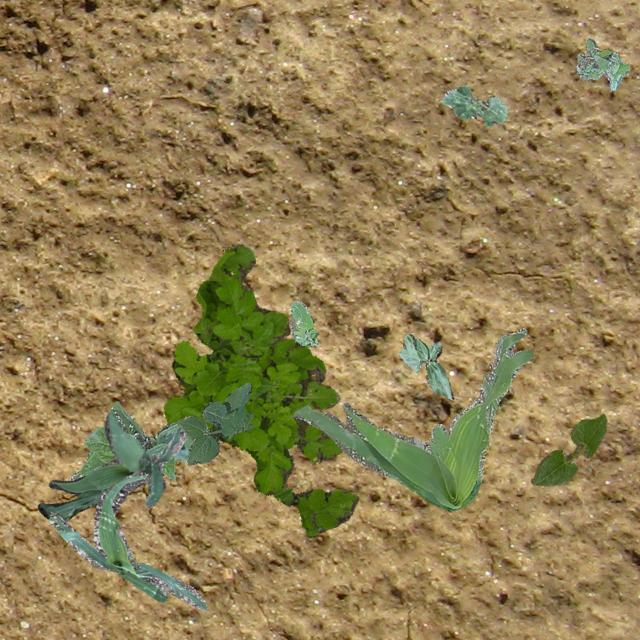crop: (48, 469, 206, 608), (36, 408, 185, 520), (70, 400, 192, 480), (530, 412, 606, 484), (398, 332, 452, 400), (441, 84, 506, 124)
weed: (162, 244, 358, 536), (290, 328, 532, 510), (176, 382, 252, 464), (574, 37, 628, 90), (288, 299, 318, 346)
